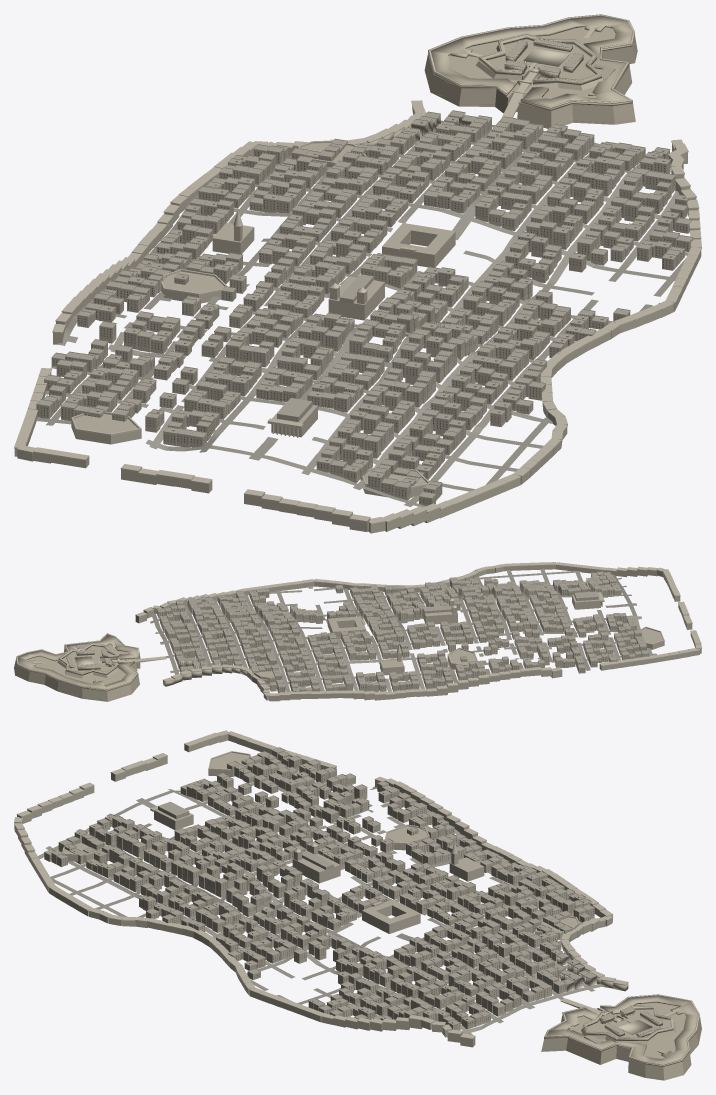
The model's file is city.glb.
The picture shows the model from 3 angles, top to bottom: view 1: azimuth 30°, elevation 25°; view 2: azimuth 150°, elevation 25°; view 3: azimuth 270°, elevation 25°; orthographic projection. The views are drawn at different scales.
Visible parts, largest first — view 1: City_12_8_Structure, City_9_11_Detail, City_11_9_Detail, City_10_9_Detail, City_9_11_Structure, City_11_10_Detail, City_9_10_Detail, City_10_10_Structure, City_10_11_Detail, City_10_10_Detail, City_9_10_Structure, City_11_9_Structure (+25 smaller); view 2: City_12_8_Structure, City_11_9_Detail, City_10_9_Detail, City_9_10_Detail, City_9_11_Detail, City_9_10_Structure, City_9_9_Structure, City_10_9_Structure, City_9_9_Detail, City_8_10_Detail, City_11_9_Structure, City_10_10_Detail (+23 smaller); view 3: City_12_8_Structure, City_10_10_Structure, City_11_9_Detail, City_11_9_Structure, City_10_9_Detail, City_10_10_Detail, City_9_11_Detail, City_9_11_Structure, City_10_11_Detail, City_9_10_Detail, City_10_11_Structure, City_11_10_Detail (+23 smaller).
Boxes of the visible parts, x1,y1,x2,y2 form: City_12_8_Structure: [424, 14, 637, 128]; City_9_11_Detail: [205, 321, 475, 467]; City_11_9_Detail: [355, 116, 635, 225]; City_10_9_Detail: [178, 140, 441, 261]; City_9_11_Structure: [205, 327, 465, 465]; City_11_10_Detail: [453, 184, 701, 323]; City_9_10_Detail: [98, 257, 378, 382]; City_10_10_Structure: [285, 223, 544, 341]; City_10_11_Detail: [376, 314, 587, 442]; City_10_10_Detail: [281, 229, 556, 334]; City_9_10_Structure: [107, 261, 378, 376]; City_11_9_Structure: [366, 119, 620, 221]; City_12_8_Structure: [14, 633, 140, 701]; City_11_9_Detail: [164, 604, 305, 667]; City_10_9_Detail: [251, 629, 408, 693]; City_9_10_Detail: [412, 599, 564, 667]; City_9_11_Detail: [466, 580, 622, 629]; City_9_10_Structure: [412, 601, 556, 671]; City_9_9_Structure: [353, 644, 505, 700]; City_10_9_Structure: [253, 633, 408, 698]; City_9_9_Detail: [353, 647, 511, 695]; City_8_10_Detail: [512, 628, 670, 671]; City_11_9_Structure: [167, 608, 299, 668]; City_10_10_Detail: [312, 594, 465, 649]; City_12_8_Structure: [541, 994, 701, 1080]; City_10_10_Structure: [259, 848, 420, 956]; City_11_9_Detail: [407, 925, 565, 1006]; City_11_9_Structure: [406, 928, 566, 1009]; City_10_9_Detail: [408, 862, 579, 939]; City_10_10_Detail: [260, 858, 416, 952]; City_9_11_Detail: [112, 801, 268, 894]; City_9_11_Structure: [112, 801, 269, 892]; City_10_11_Detail: [115, 857, 269, 953]; City_9_10_Detail: [260, 795, 429, 869]; City_10_11_Structure: [122, 860, 269, 956]; City_11_10_Detail: [259, 936, 414, 1016].
Bounding box in the file's own units: 1243 × 89.31 × 1116.
